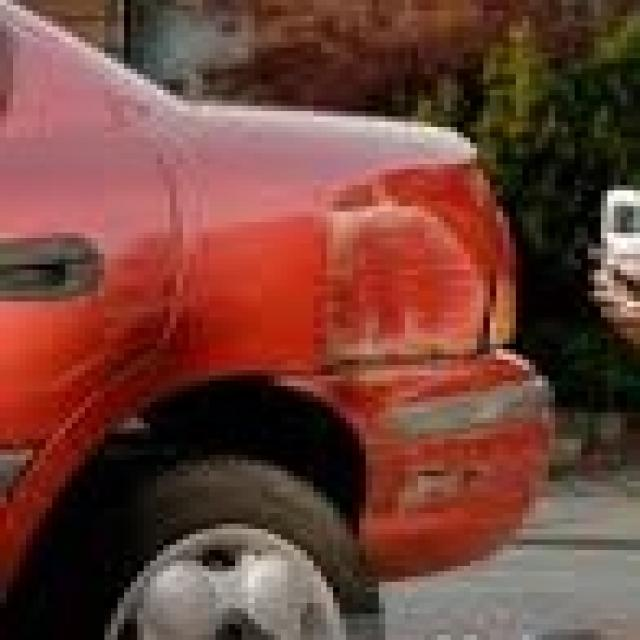minor: (85, 49, 575, 628)
